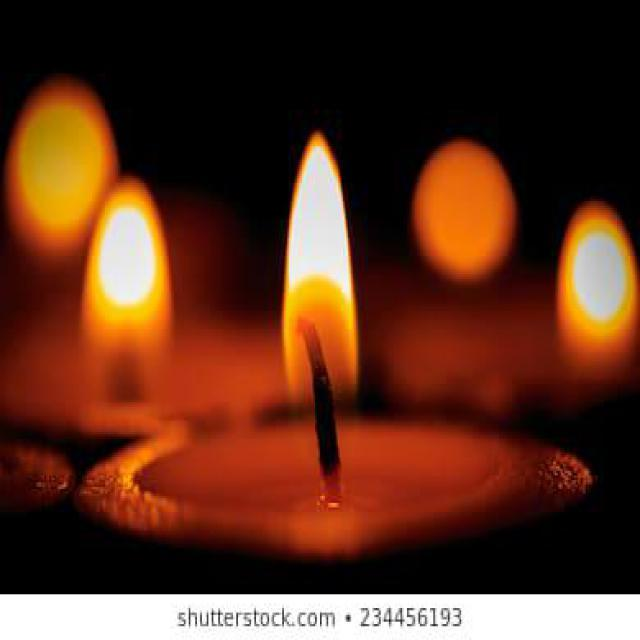Fire: (283, 130, 359, 421)
